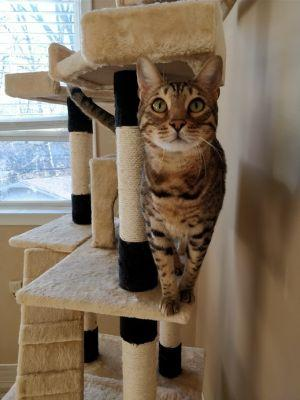bengal: (123, 41, 235, 163)
